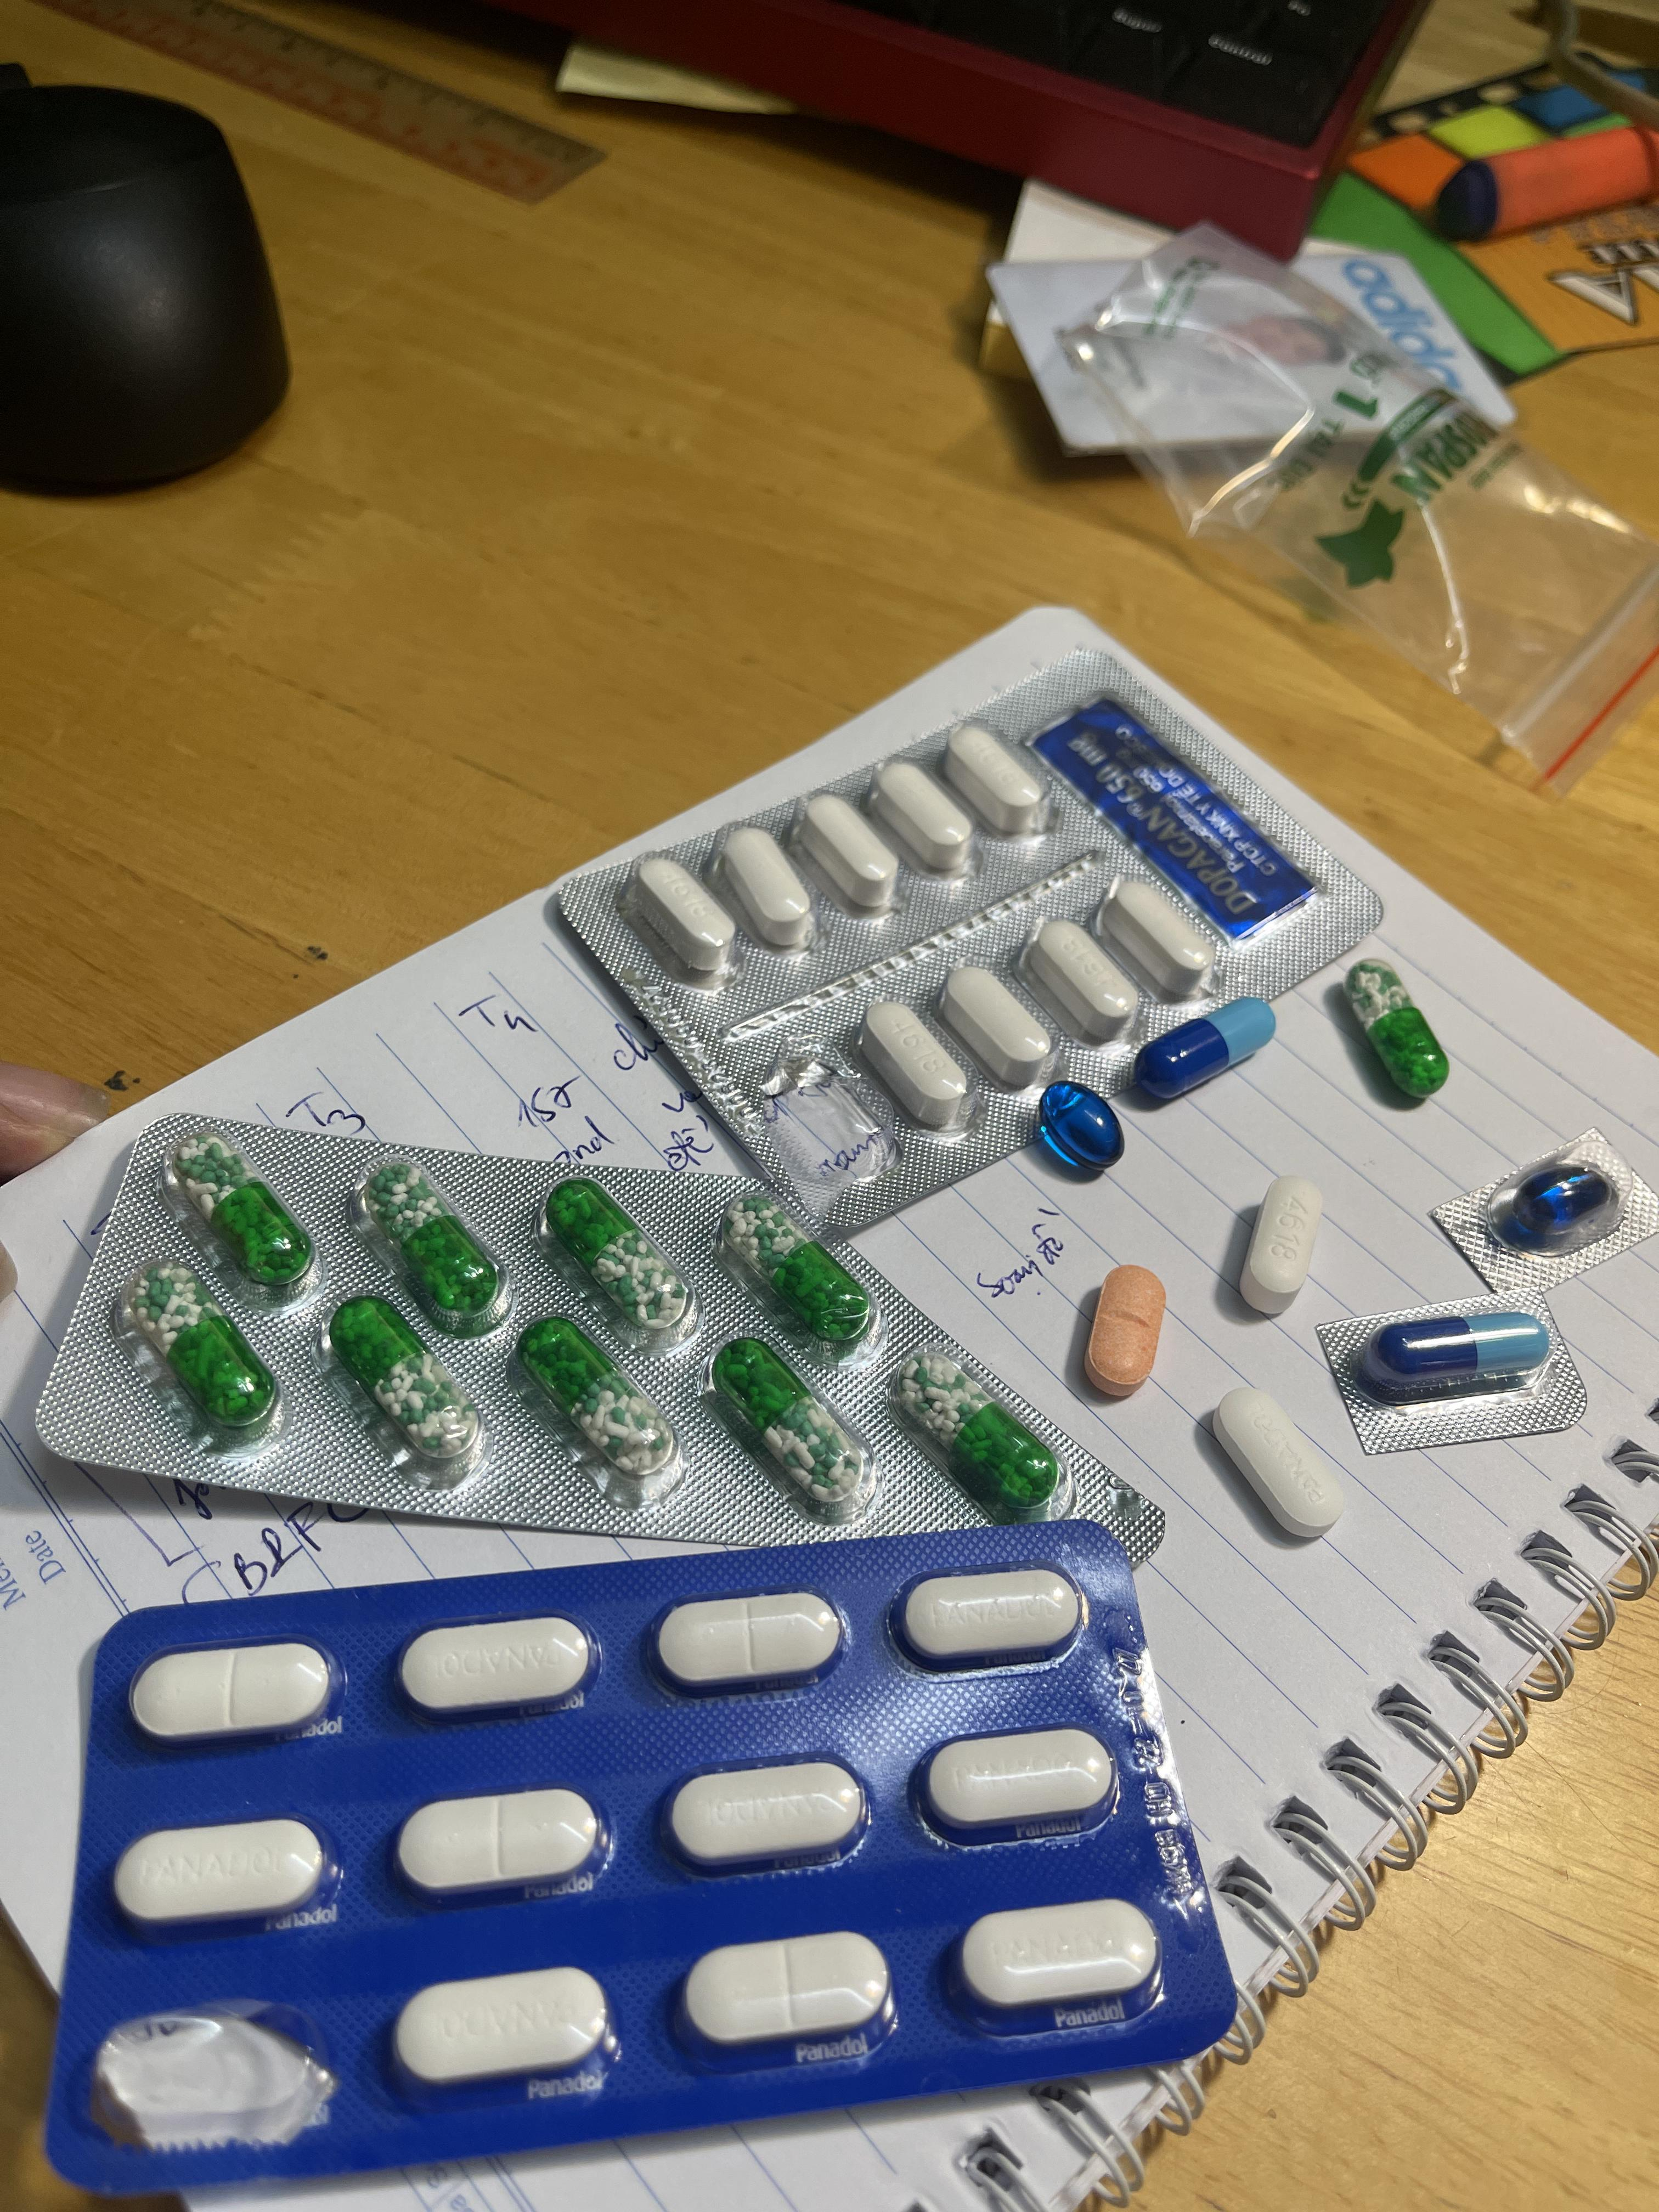Lincomyxin_500mg: (1499, 1162, 1619, 1249), (1033, 1082, 1121, 1174)
Loratadine_10mg: (1084, 1266, 1164, 1395)
Paracetamol_350mg: (394, 1966, 619, 2095), (678, 1933, 892, 2064), (113, 1817, 335, 1937), (397, 1789, 606, 1905), (664, 1757, 863, 1876), (918, 1728, 1112, 1841), (964, 1897, 1161, 2006), (645, 1587, 840, 1696), (396, 1615, 594, 1716), (1209, 1388, 1344, 1533), (136, 1641, 335, 1738), (899, 1566, 1082, 1665)
Paracetamol_500mg: (938, 961, 1053, 1085), (1098, 874, 1213, 993), (1025, 920, 1136, 1042), (863, 998, 969, 1125), (714, 824, 819, 951), (631, 855, 735, 977), (800, 792, 903, 916), (943, 723, 1053, 836), (871, 761, 976, 876), (1241, 1184, 1323, 1315)
Paracetamol_650mg: (551, 1179, 709, 1343), (519, 1320, 674, 1480), (714, 1339, 863, 1507), (125, 1264, 272, 1430), (901, 1353, 1056, 1505), (368, 1160, 505, 1327), (329, 1298, 472, 1458), (723, 1197, 873, 1345), (176, 1134, 312, 1285), (1342, 960, 1446, 1097)
pill: (1133, 995, 1279, 1103), (1368, 1313, 1551, 1392)
